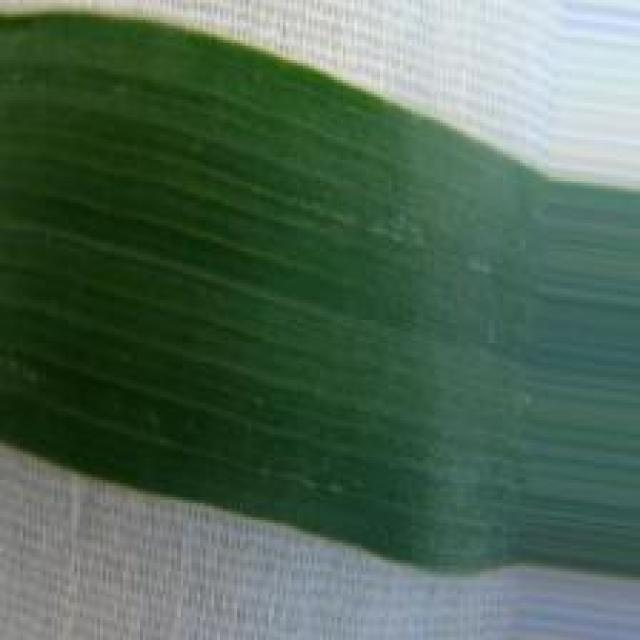Healthy: (0, 15, 640, 579)
